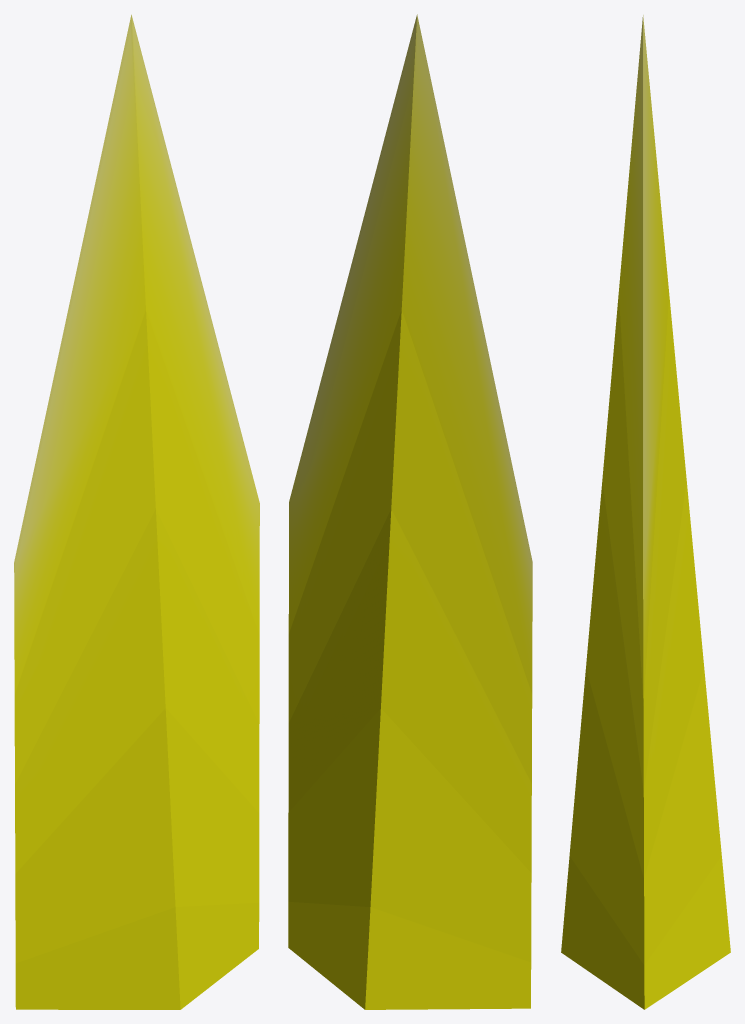
File: mantis.gltf
The picture shows the model from 3 angles, left to right: view 1: azimuth 30°, elevation 25°; view 2: azimuth 150°, elevation 25°; view 3: azimuth 270°, elevation 25°; orthographic projection. The views are drawn at different scales.
Visible parts, largest first — view 1: Scopion; view 2: Scopion; view 3: Scopion.
Boxes of the visible parts, box(x1,y1,x2,y2) form: Scopion: box(14, 14, 259, 1009); Scopion: box(288, 14, 532, 1009); Scopion: box(561, 15, 730, 1009).
Bounding box in the file's own units: 0.0957 × 0.3614 × 0.0594.
Materials: 1 (1 with a texture image).
